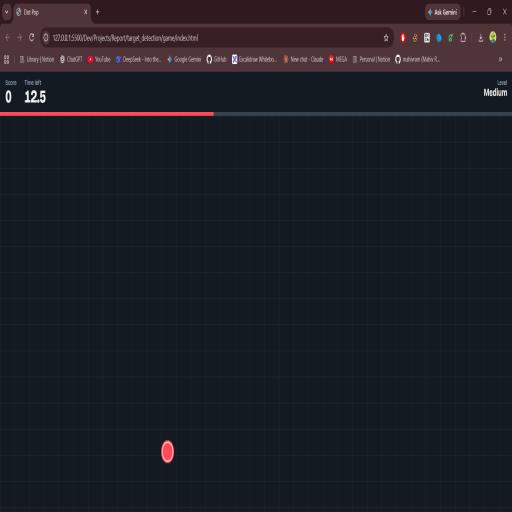Target-Detection: (161, 440, 175, 463)
